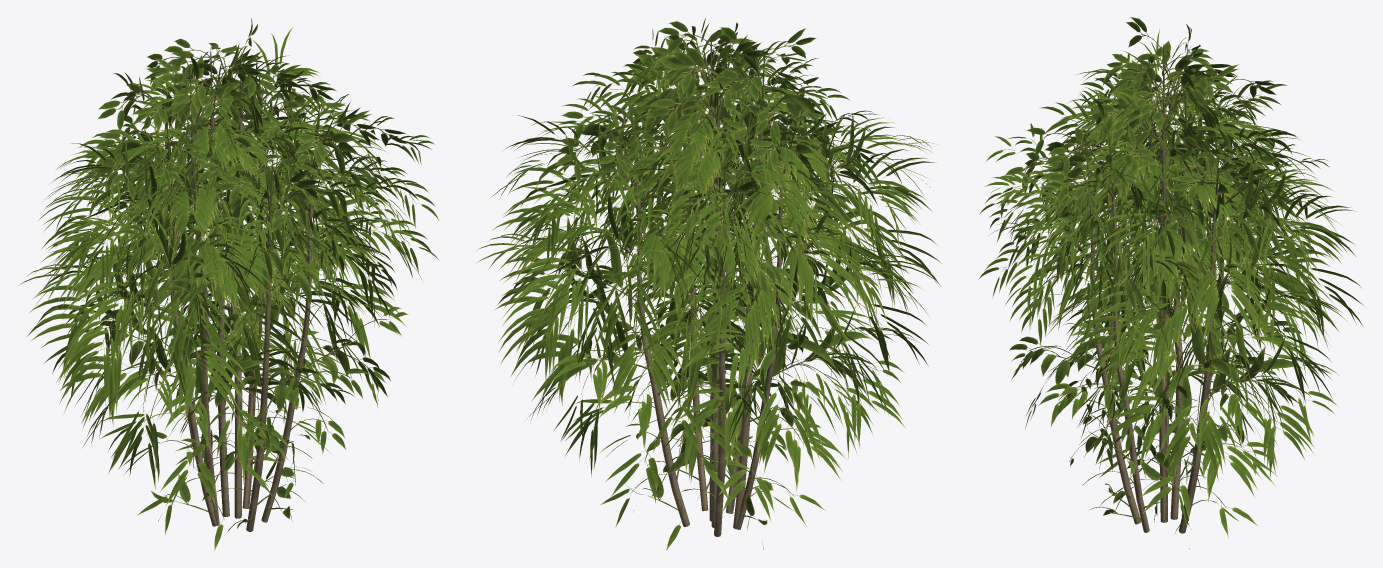
The model's file is bamboo_a.glb.
3 views of the same model, side by side, from view 1: azimuth 30°, elevation 25°; view 2: azimuth 150°, elevation 25°; view 3: azimuth 270°, elevation 25° (orthographic). The views are drawn at different scales.
Parts seen in each view (by area): view 1: Object_11; view 2: Object_11; view 3: Object_11.
Part boxes in pixels (box(x1,y1,x2,y2)): Object_11: box(18, 18, 439, 550); Object_11: box(476, 18, 941, 550); Object_11: box(978, 17, 1363, 548).
Bounding box in the file's own units: 5.77 × 7 × 5.21.
Materials: 5 (5 with a texture image).
